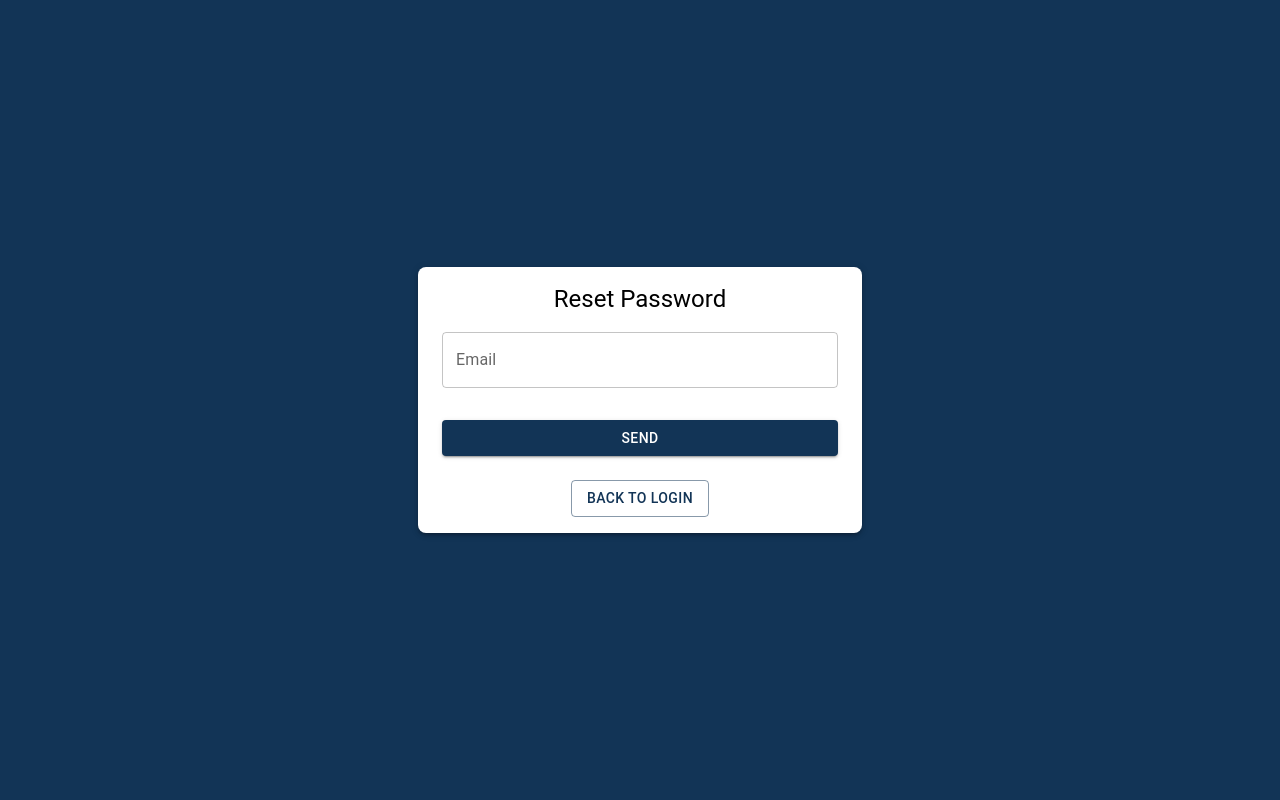
it: ForgotPassword › should send a password reset email when email is valid
Type "test@example.com" into the field labelled "Email" at (640, 360), box [442,332,838,388]
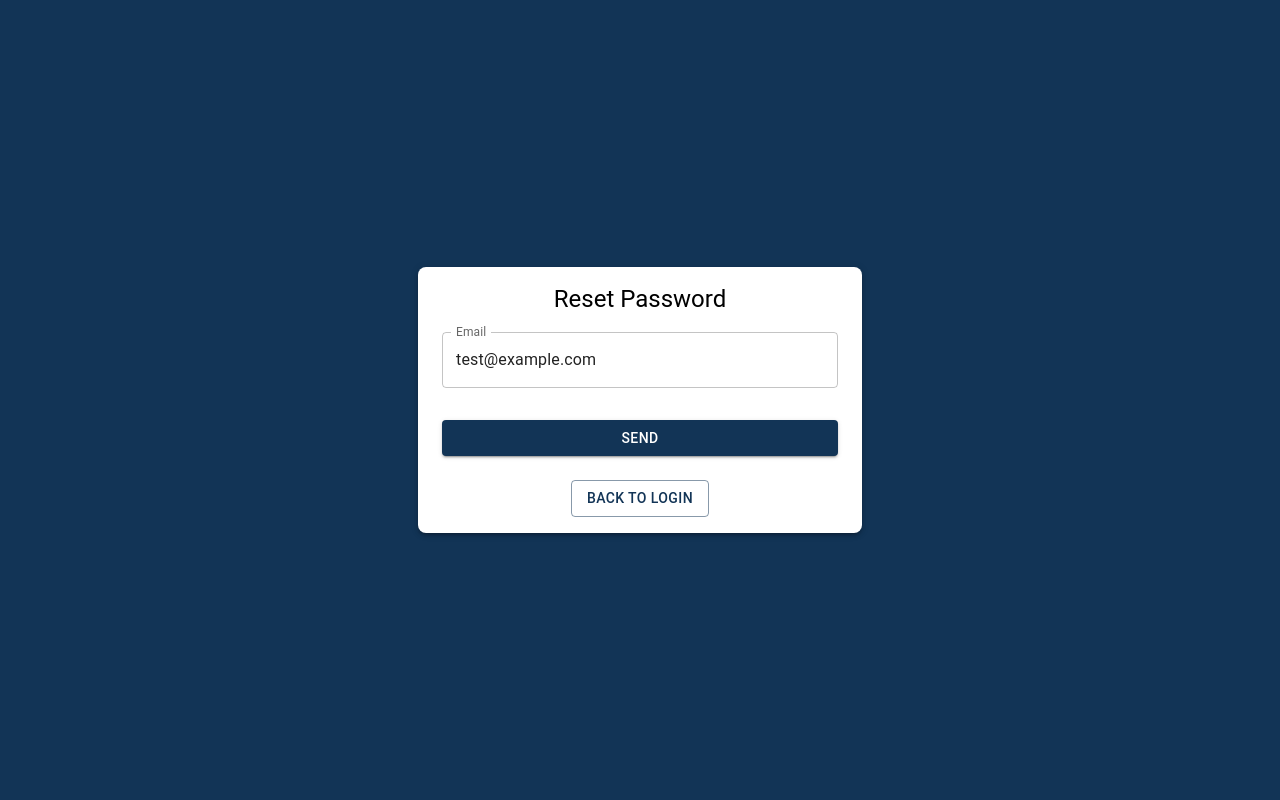
Click the button "Send" at (640, 438), box [442,420,838,456]
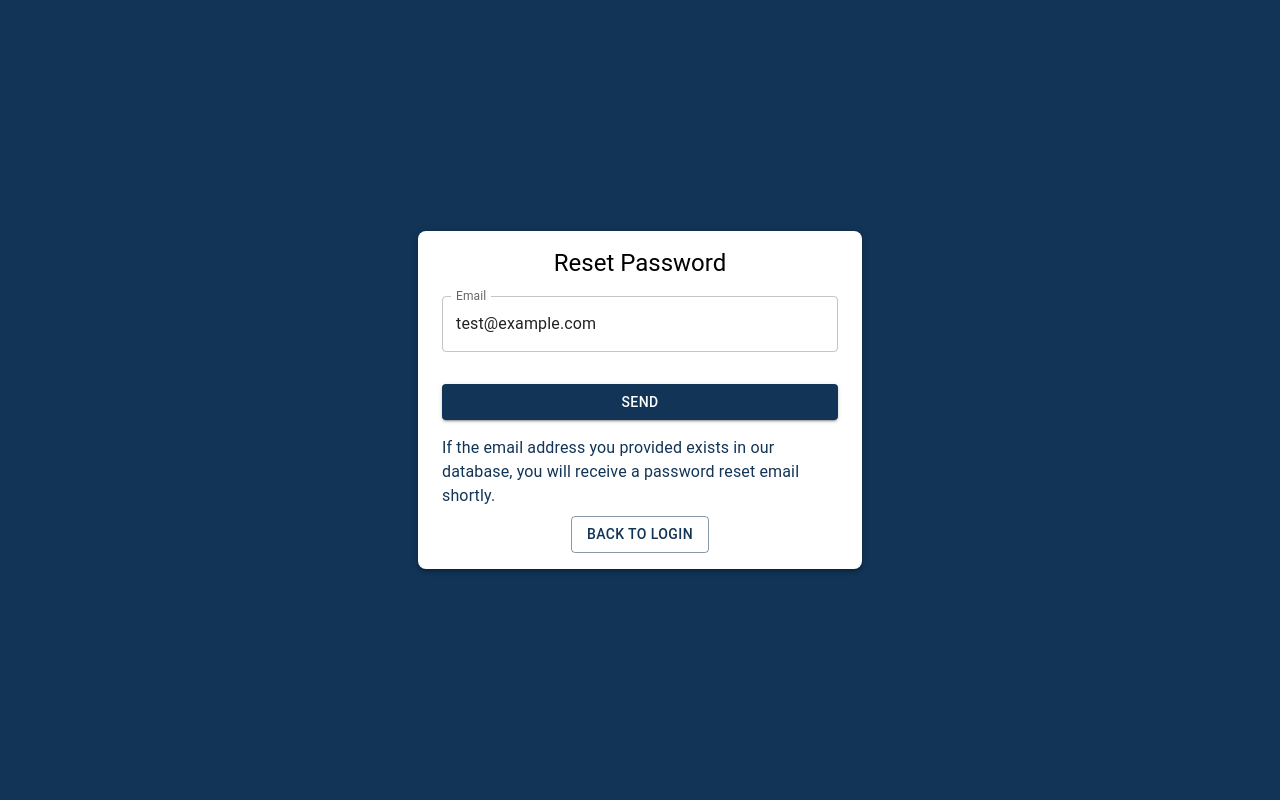
Result: the text "If the email address you provided exists in our database, you will receive a password reset email shortly." is shown at [442,438,799,505]
